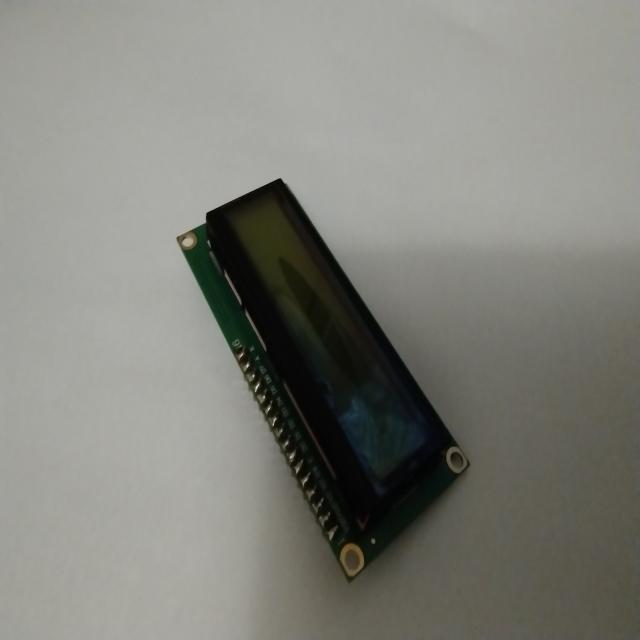lcd: (177, 176, 470, 582)
